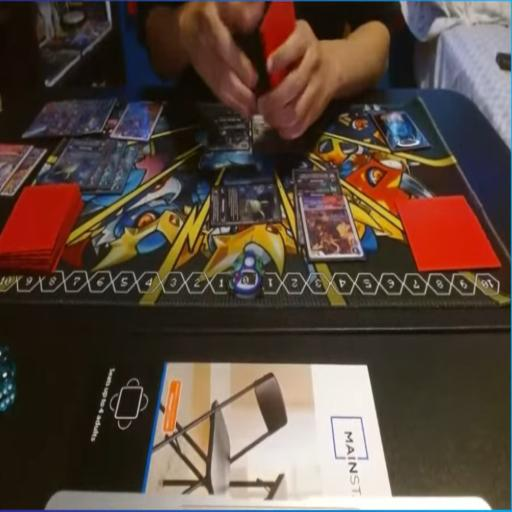card: (302, 196, 363, 259), (207, 181, 277, 229), (45, 133, 104, 188), (252, 102, 307, 161), (296, 181, 340, 244), (23, 94, 77, 138), (0, 147, 47, 194), (208, 107, 252, 155), (114, 99, 164, 141), (0, 140, 34, 191), (85, 137, 117, 190), (98, 139, 126, 197), (109, 139, 137, 193), (80, 99, 114, 135), (294, 164, 339, 183)
